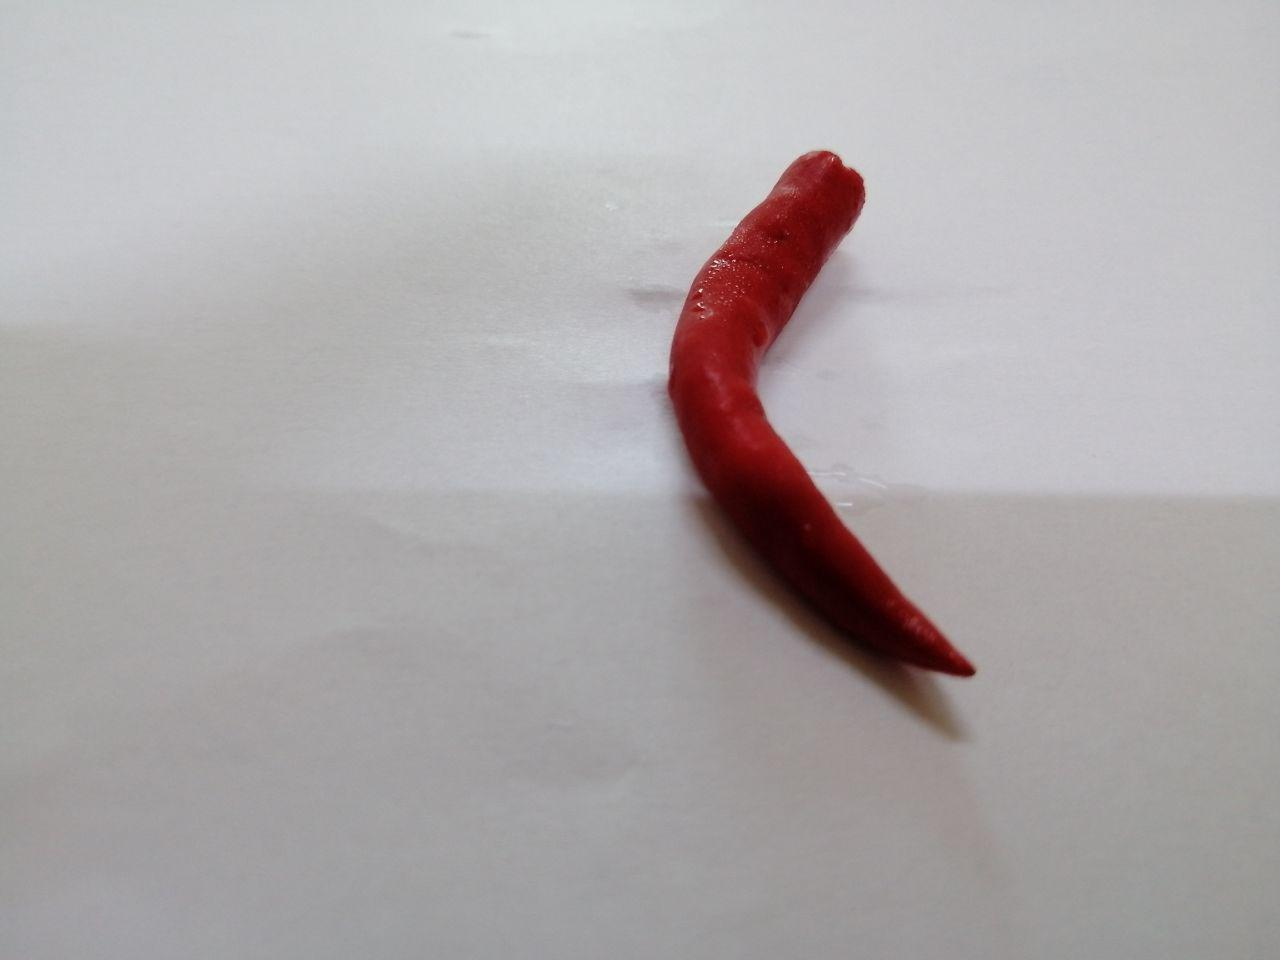lada merah: (644, 131, 1024, 730)
